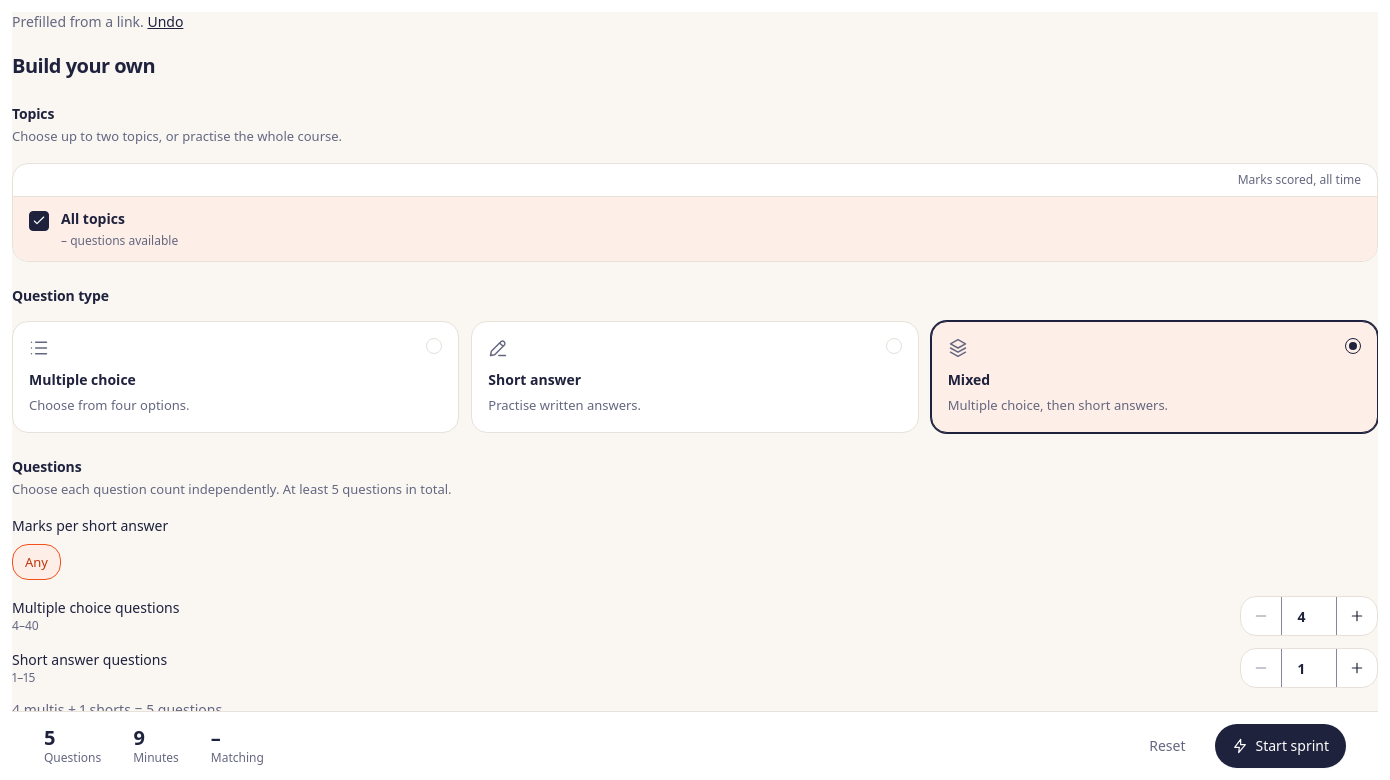
mixed steppers enforce at least five questions and independent maxima
expect the number field labelled "Short answer questions" holds "1": met, box [1281,649,1337,687]
expect the button named "Decrease multiple choice questions" is disabled: met, box [1241,597,1281,635]
Replace the text in the number field labelled "Multiple choice questions" with "999" at (1309, 616), box [1281,597,1337,635]
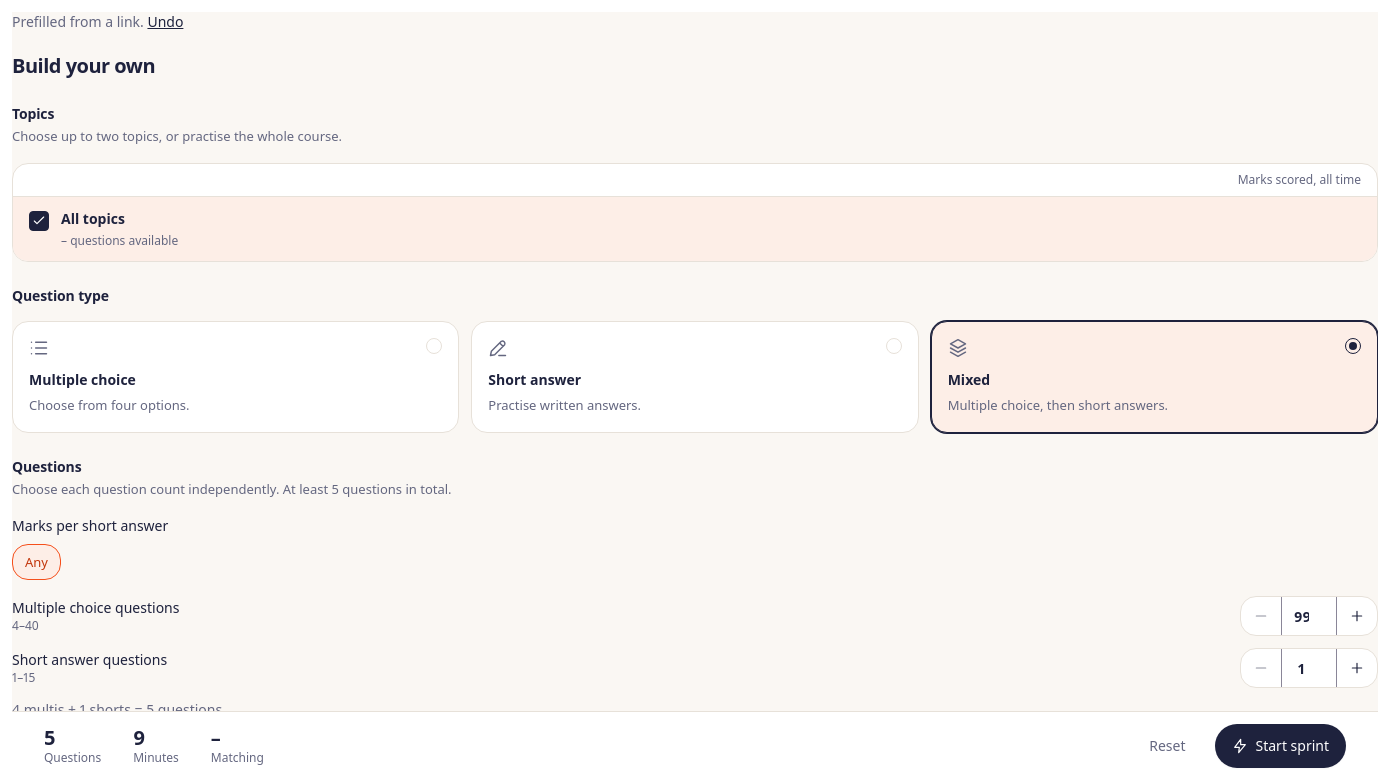
Leave the number field labelled "Multiple choice questions", box [1281,597,1337,635]
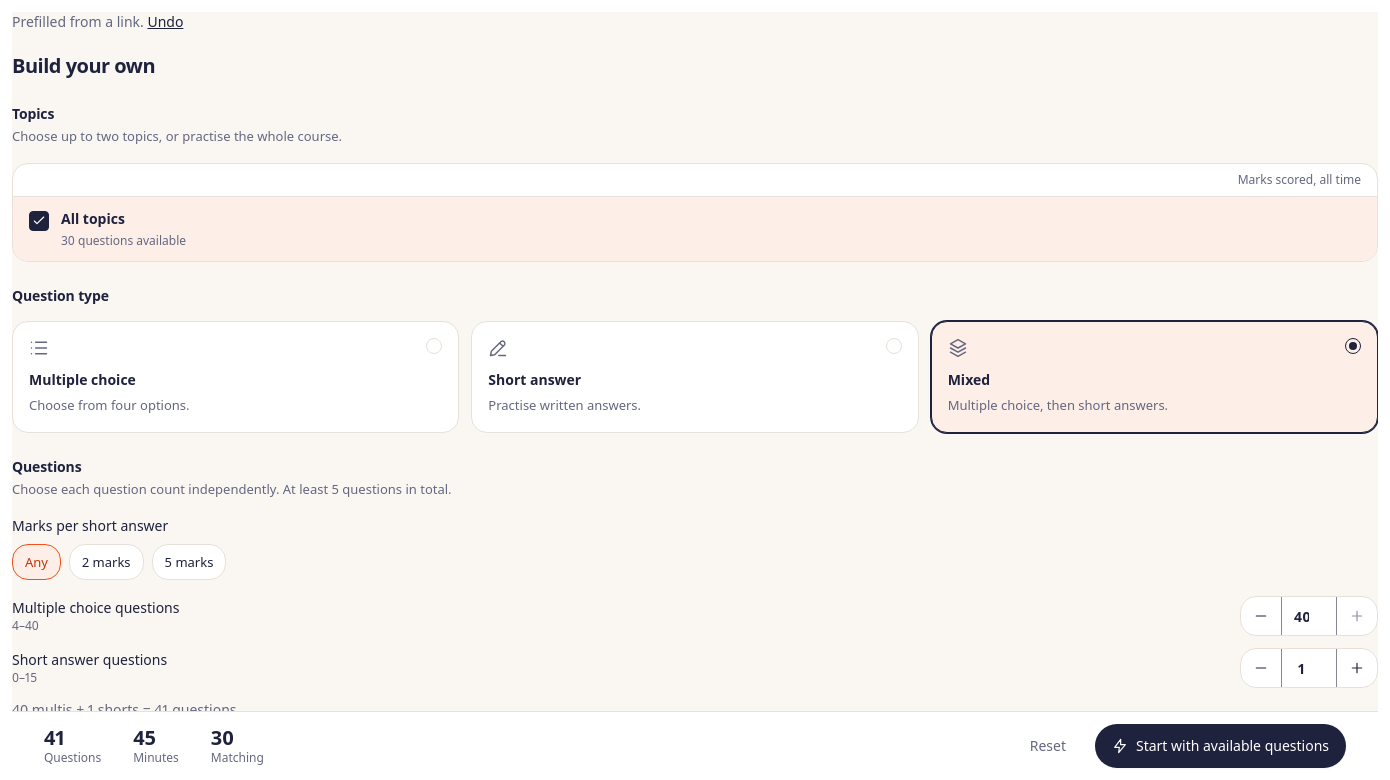
expect the number field labelled "Short answer questions" holds "1": met, box [1281,649,1337,687]
expect the number field labelled "Multiple choice questions" holds "40": met, box [1281,597,1337,635]
